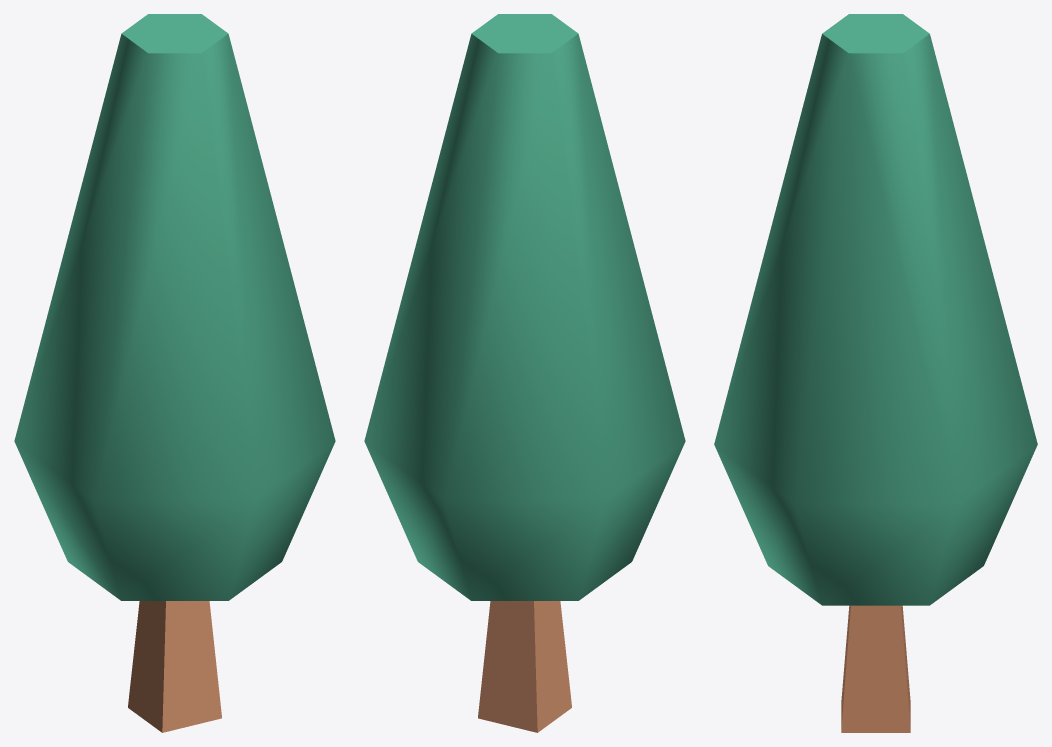
The model's file is Tree Small.glb.
3 renders of one model, left to right at view 1: azimuth 30°, elevation 25°; view 2: azimuth 150°, elevation 25°; view 3: azimuth 270°, elevation 25°, orthographic.
Parts seen in each view (by area): view 1: tree_small; view 2: tree_small; view 3: tree_small.
Boxes of the visible parts, x1,y1,x2,y2 form: tree_small: (14,14,335,732); tree_small: (364,14,685,732); tree_small: (714,14,1037,732).
Bounding box in the file's own units: 0.2104 × 0.567 × 0.243.
